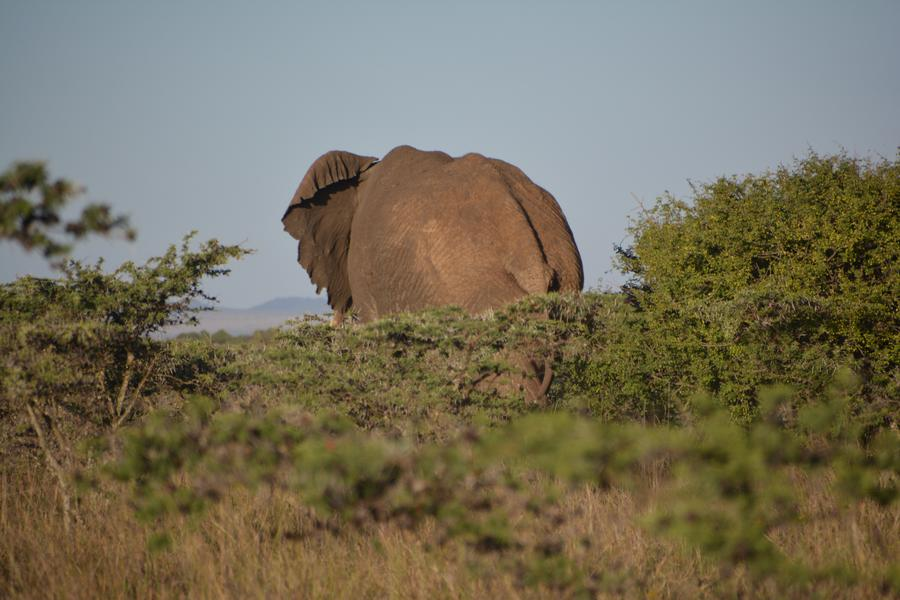elephant: (296, 132, 575, 405)
